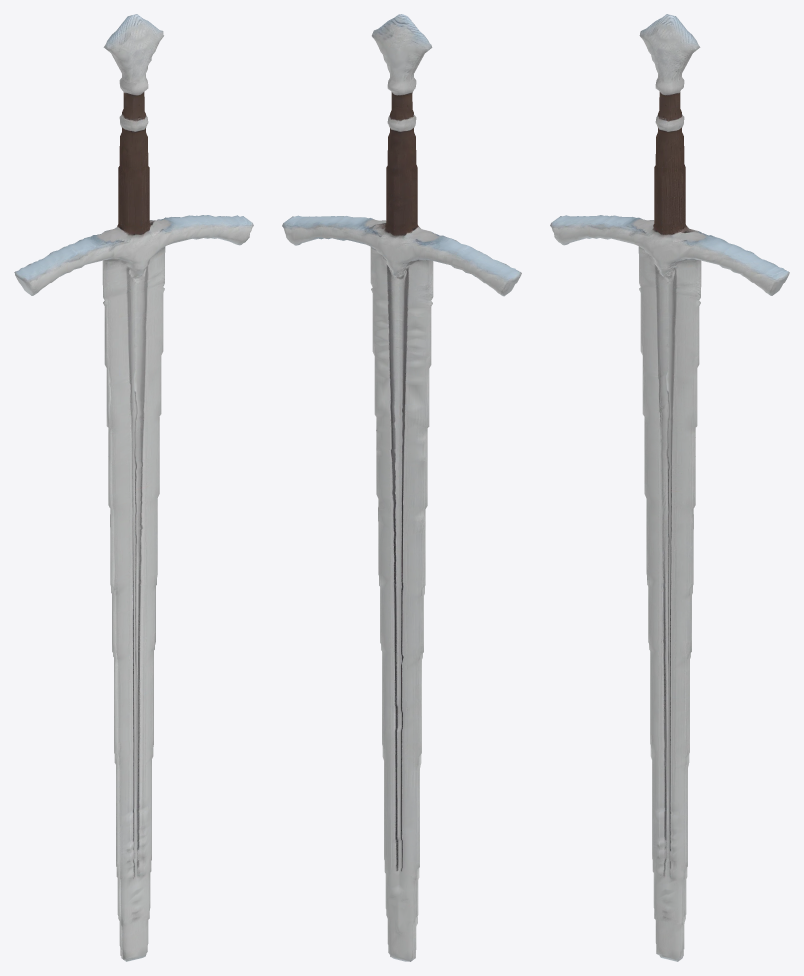
Rendered from sword_ld_v1.glb.
3 views of the same model, side by side, from view 1: azimuth 30°, elevation 25°; view 2: azimuth 150°, elevation 25°; view 3: azimuth 330°, elevation 25° (orthographic).
Bounding box in the file's own units: 0.4892 × 1.91 × 0.0665.
1 material, 1 textured.
